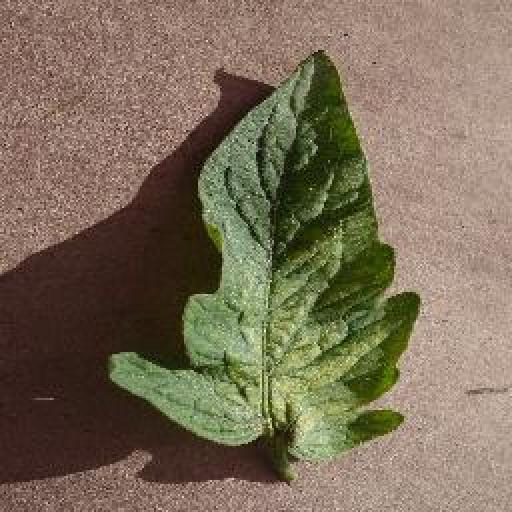disease_tomato: (112, 50, 420, 460)
